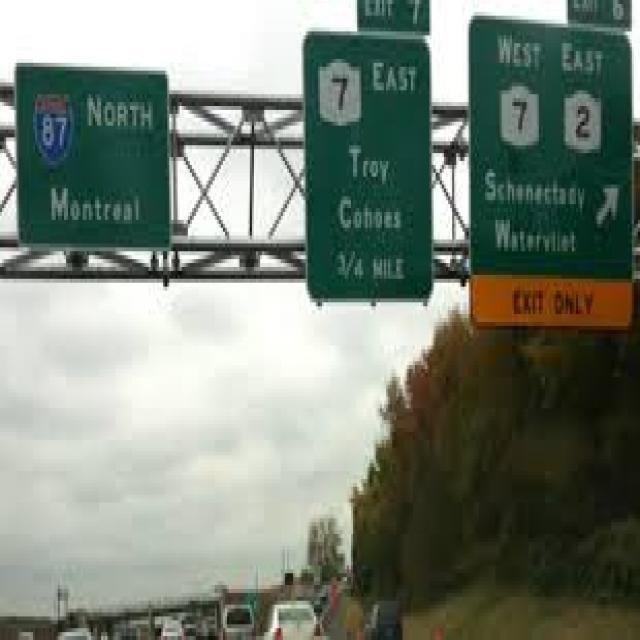street-signs: (468, 11, 635, 329), (301, 27, 433, 303), (15, 60, 172, 253), (568, 0, 634, 33)
